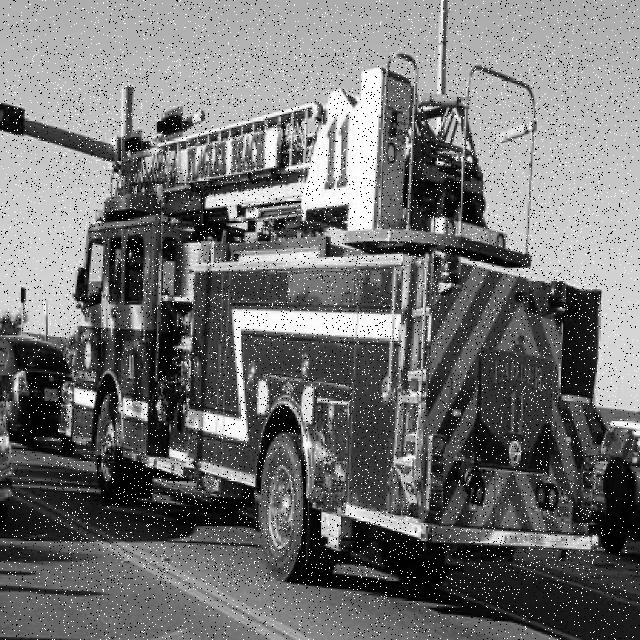Fire Truck: (56, 53, 603, 590)
